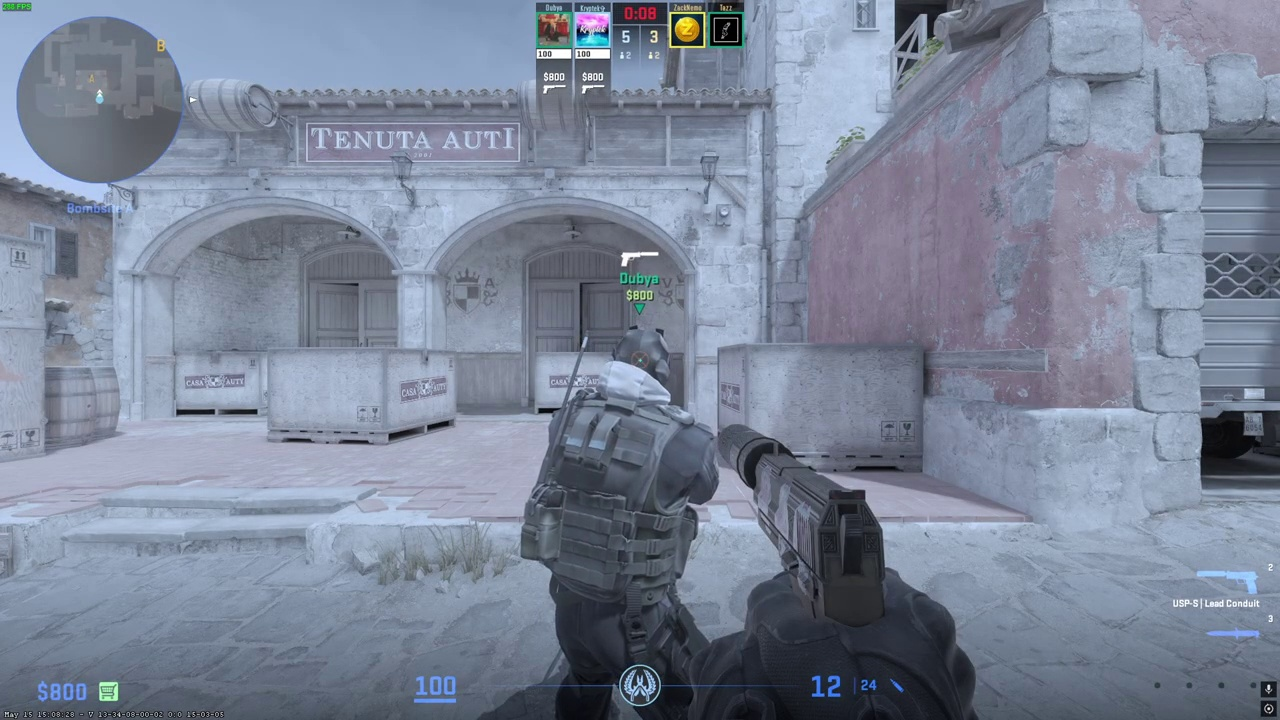CT: (535, 324, 716, 720)
